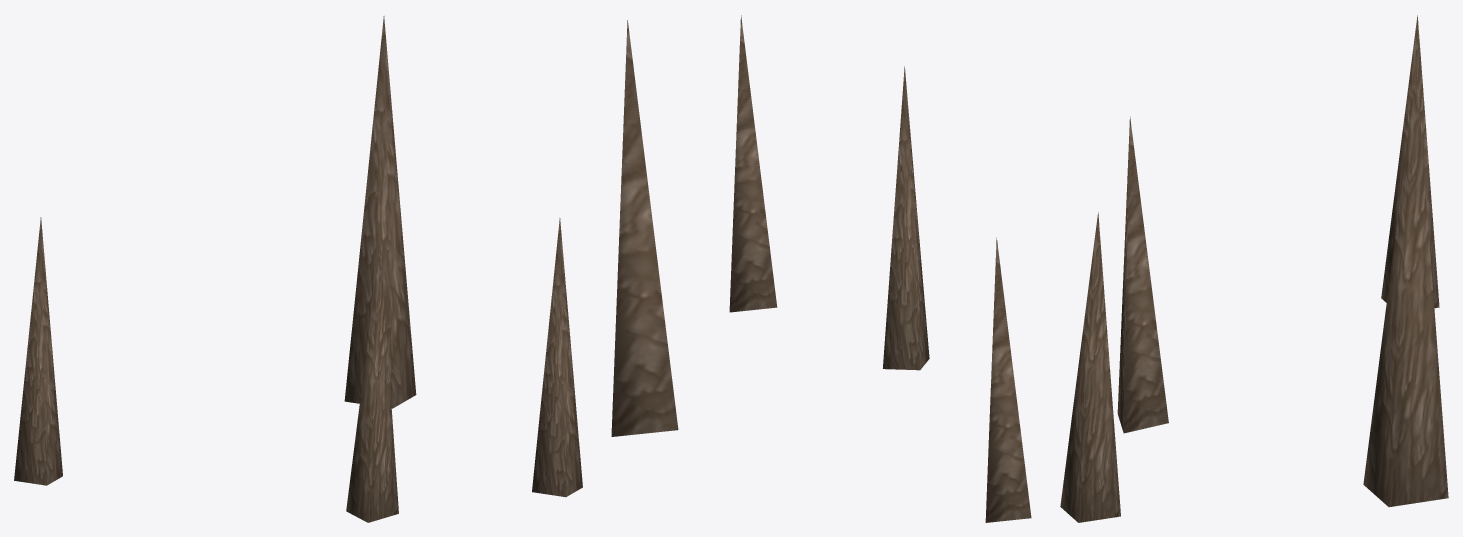
Rendered from area_06_34.fbx.
The picture shows the model from 3 angles, left to right: view 1: azimuth 30°, elevation 25°; view 2: azimuth 150°, elevation 25°; view 3: azimuth 270°, elevation 25°; orthographic projection. The views are drawn at different scales.
Parts seen in each view (by area): view 1: area_06_34; view 2: area_06_34; view 3: area_06_34.
Part boxes in pixels (x1,y1,x2,y2): area_06_34: [14, 16, 582, 522]; area_06_34: [611, 15, 1031, 522]; area_06_34: [1060, 15, 1448, 522].
Size of the model in its own units: 10.91 by 9.35 by 7.68.
